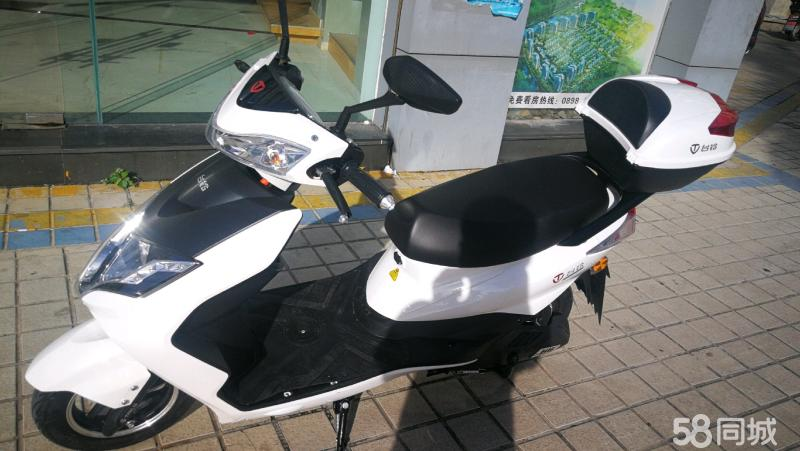电动车: (28, 1, 752, 450)
